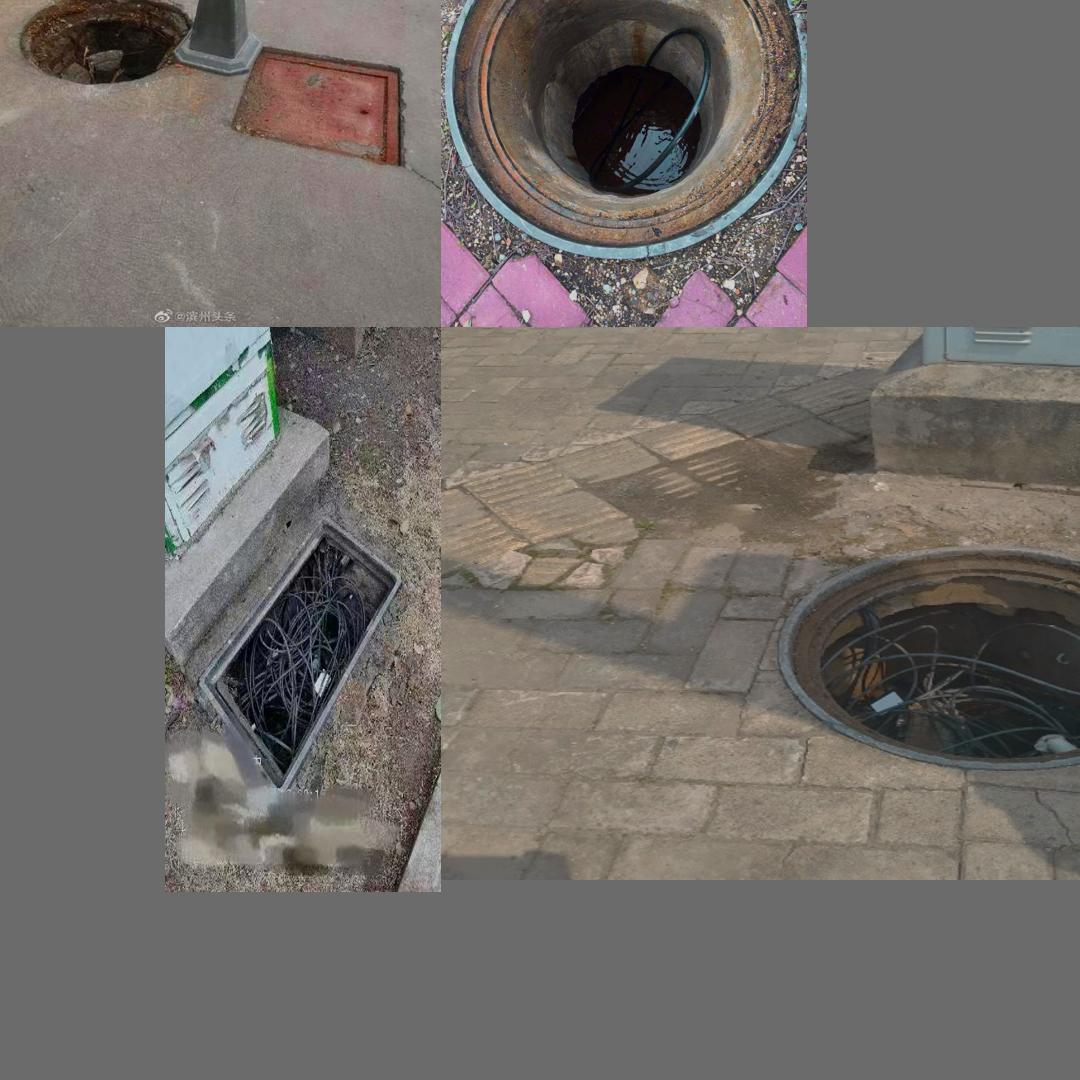lose: (448, 0, 800, 236), (775, 546, 1080, 771), (190, 506, 404, 796), (19, 0, 197, 89)
